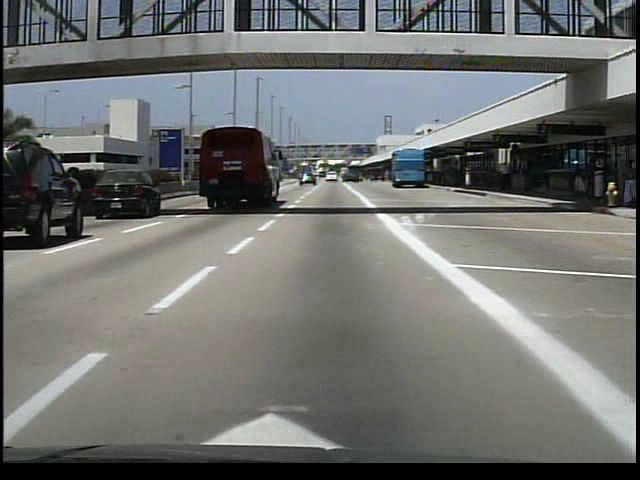person: (502, 161, 516, 192)
